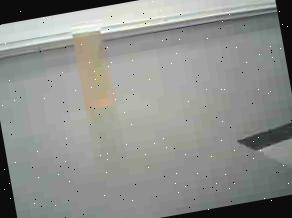Bottle A: (64, 16, 125, 123)
